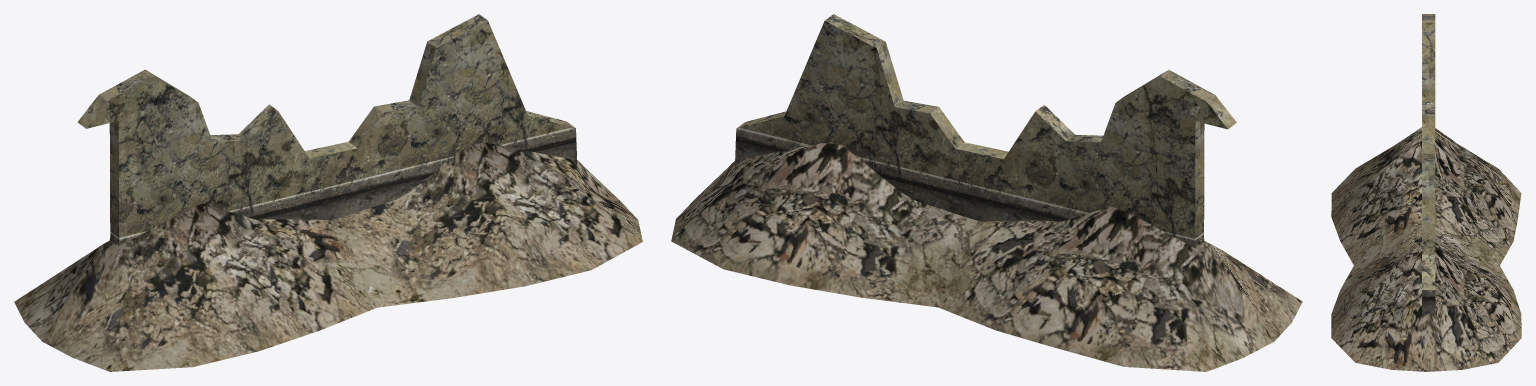
Rendered from Rbl_S1.glb.
3 renders of one model, left to right at view 1: azimuth 30°, elevation 25°; view 2: azimuth 150°, elevation 25°; view 3: azimuth 270°, elevation 25°, orthographic. The views are drawn at different scales.
Parts seen in each view (by area): view 1: _Rbl_S1; view 2: _Rbl_S1; view 3: _Rbl_S1.
Part boxes in pixels (<box>): _Rbl_S1: <box>14,14,642,371</box>; _Rbl_S1: <box>671,14,1302,371</box>; _Rbl_S1: <box>1331,14,1521,371</box>.
Bounding box in the file's own units: 9.29 × 3.72 × 3.55.
2 materials, 2 textured.
